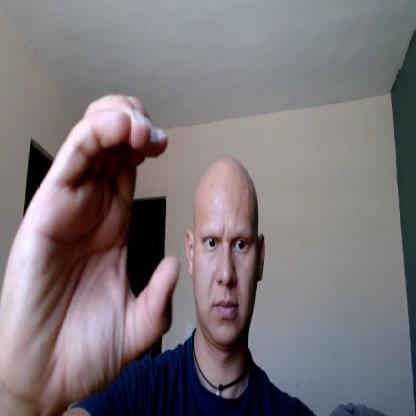C: (0, 93, 179, 402)
